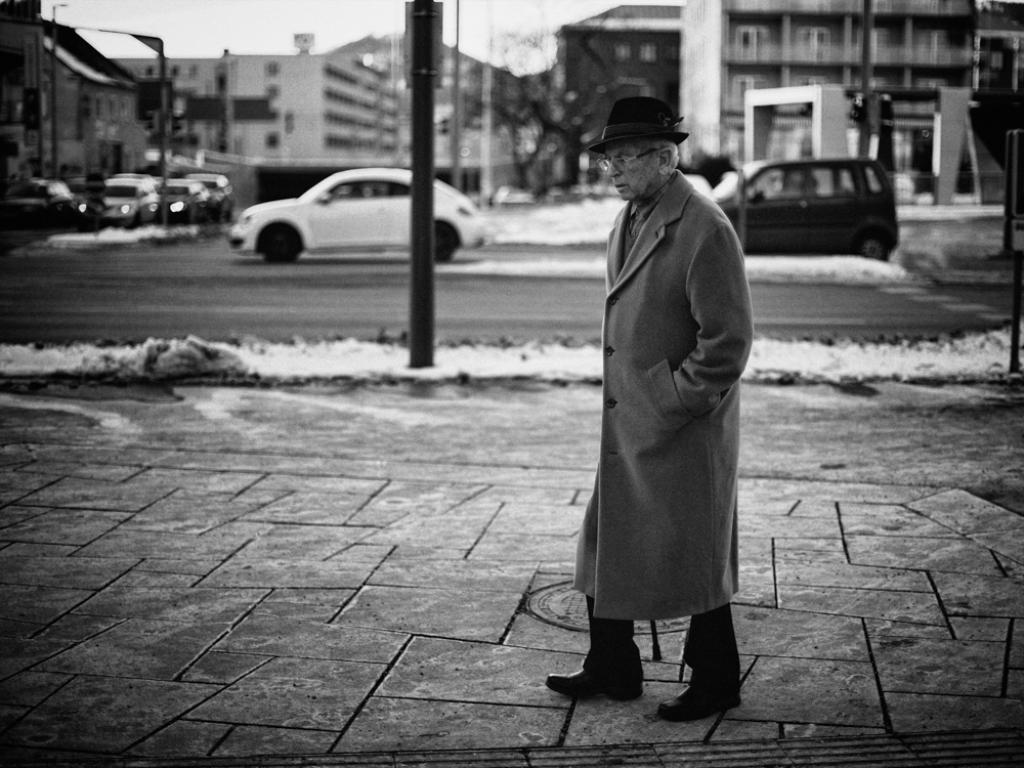Car: (227, 162, 492, 262), (709, 154, 900, 254), (0, 172, 235, 228)
